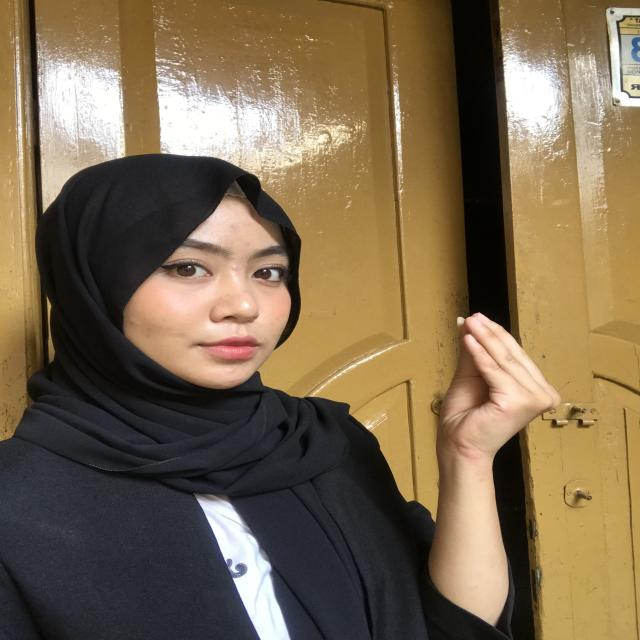kapan: (392, 300, 582, 474)
